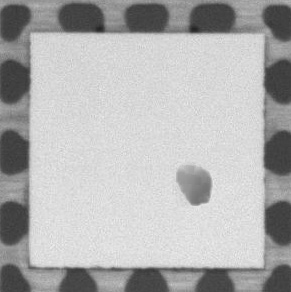DIE_INK: (168, 159, 218, 213)
